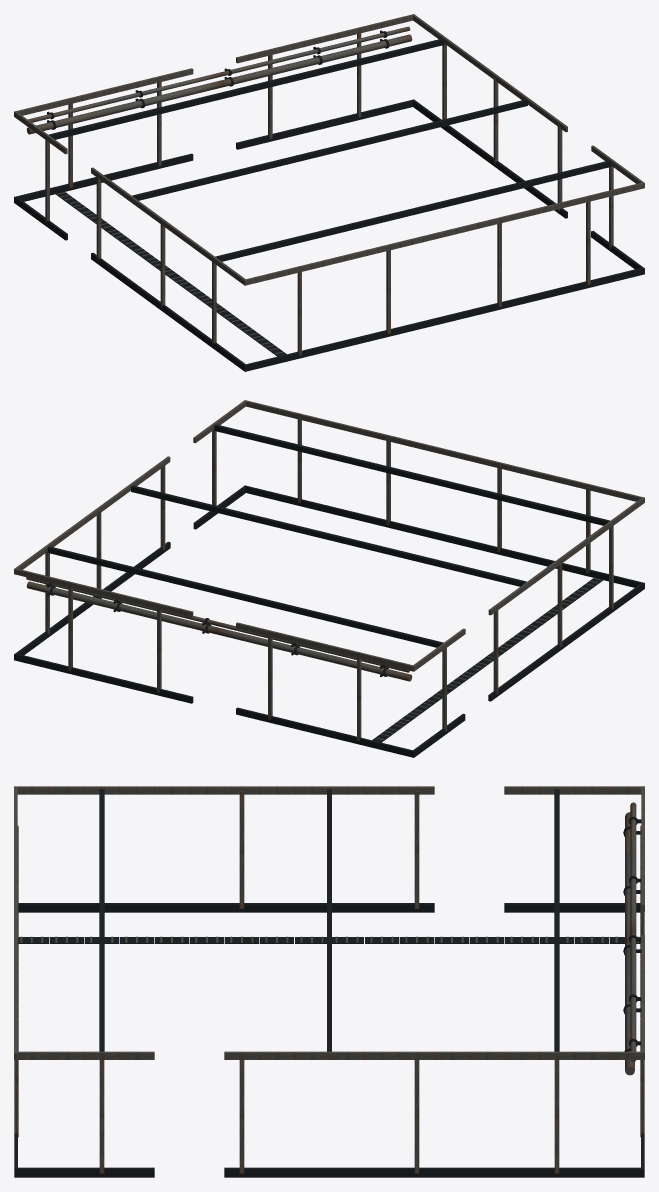
File: ServiceStructure08.obj
3 renders of one model, top to bottom at view 1: azimuth 30°, elevation 25°; view 2: azimuth 150°, elevation 25°; view 3: azimuth 270°, elevation 25°, orthographic. The views are drawn at different scales.
Parts seen in each view (by area): view 1: ServiceStructure08; view 2: ServiceStructure08; view 3: ServiceStructure08.
Part boxes in pixels (x1,y1,x2,y2): ServiceStructure08: (14,14,644,371); ServiceStructure08: (14,400,644,757); ServiceStructure08: (14,786,644,1177).
Size of the model in its own units: 18.02 by 3.93 by 18.02.
3 materials, 2 textured.
